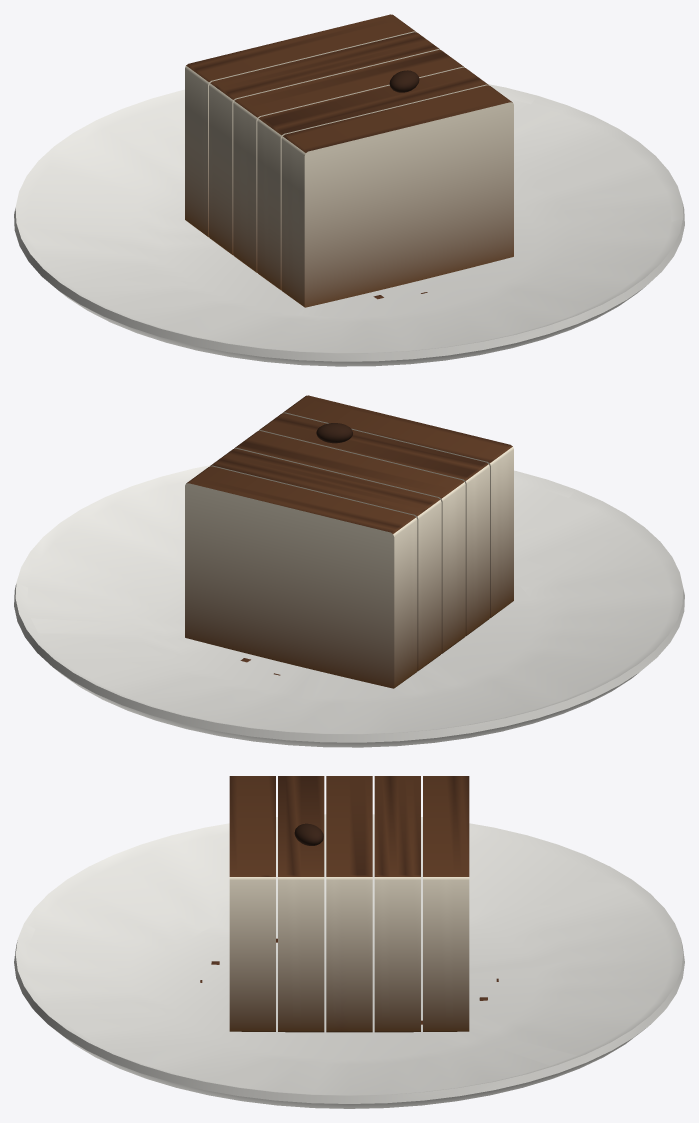
Rendered from dish-tiramisu-lod0.glb.
The picture shows the model from 3 angles, top to bottom: view 1: azimuth 30°, elevation 25°; view 2: azimuth 150°, elevation 25°; view 3: azimuth 270°, elevation 25°; orthographic projection.
Visible parts, largest first — view 1: tiramisu.lod0__table porcelain, tiramisu.lod0__food, tiramisu.lod0__food glaze; view 2: tiramisu.lod0__table porcelain, tiramisu.lod0__food, tiramisu.lod0__food glaze; view 3: tiramisu.lod0__table porcelain, tiramisu.lod0__food, tiramisu.lod0__food glaze.
Boxes of the visible parts, x1=… form: tiramisu.lod0__table porcelain: x1=14, y1=84, x2=684, y2=366; tiramisu.lod0__food: x1=185, y1=14, x2=513, y2=307; tiramisu.lod0__food glaze: x1=389, y1=70, x2=419, y2=92; tiramisu.lod0__table porcelain: x1=14, y1=465, x2=684, y2=747; tiramisu.lod0__food: x1=185, y1=395, x2=513, y2=688; tiramisu.lod0__food glaze: x1=316, y1=423, x2=352, y2=443; tiramisu.lod0__table porcelain: x1=14, y1=814, x2=684, y2=1108; tiramisu.lod0__food: x1=200, y1=776, x2=498, y2=1032; tiramisu.lod0__food glaze: x1=294, y1=823, x2=323, y2=845.
Bounding box in the file's own units: 0.2 × 0.0673 × 0.2.
